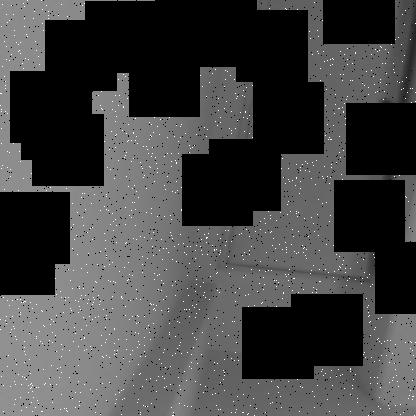Porte: (213, 1, 415, 287)
